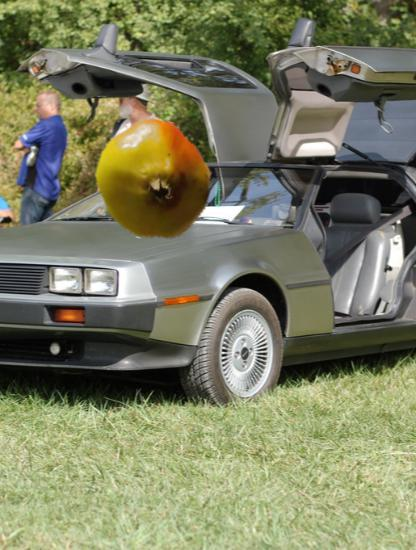Apple: (93, 119, 214, 240)
